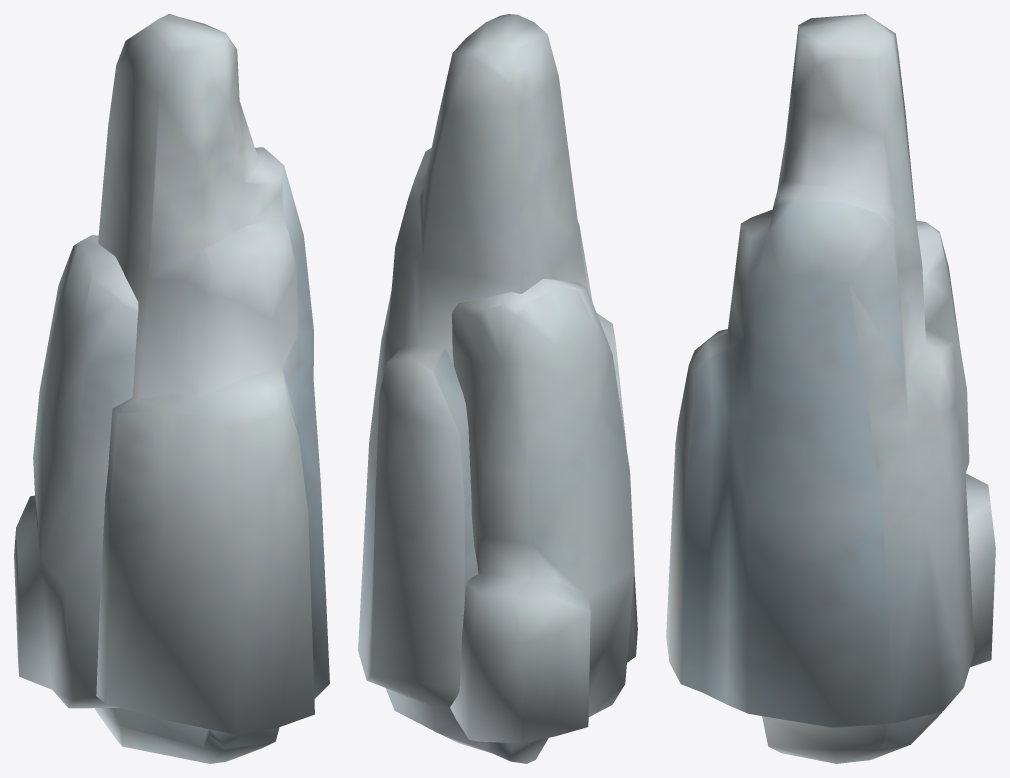
File: P_RockSpire_Spire03.obj
3 views of the same model, side by side, from view 1: azimuth 30°, elevation 25°; view 2: azimuth 150°, elevation 25°; view 3: azimuth 270°, elevation 25° (orthographic).
Bounding box in the file's own units: 30.8 × 84.21 × 35.11.
